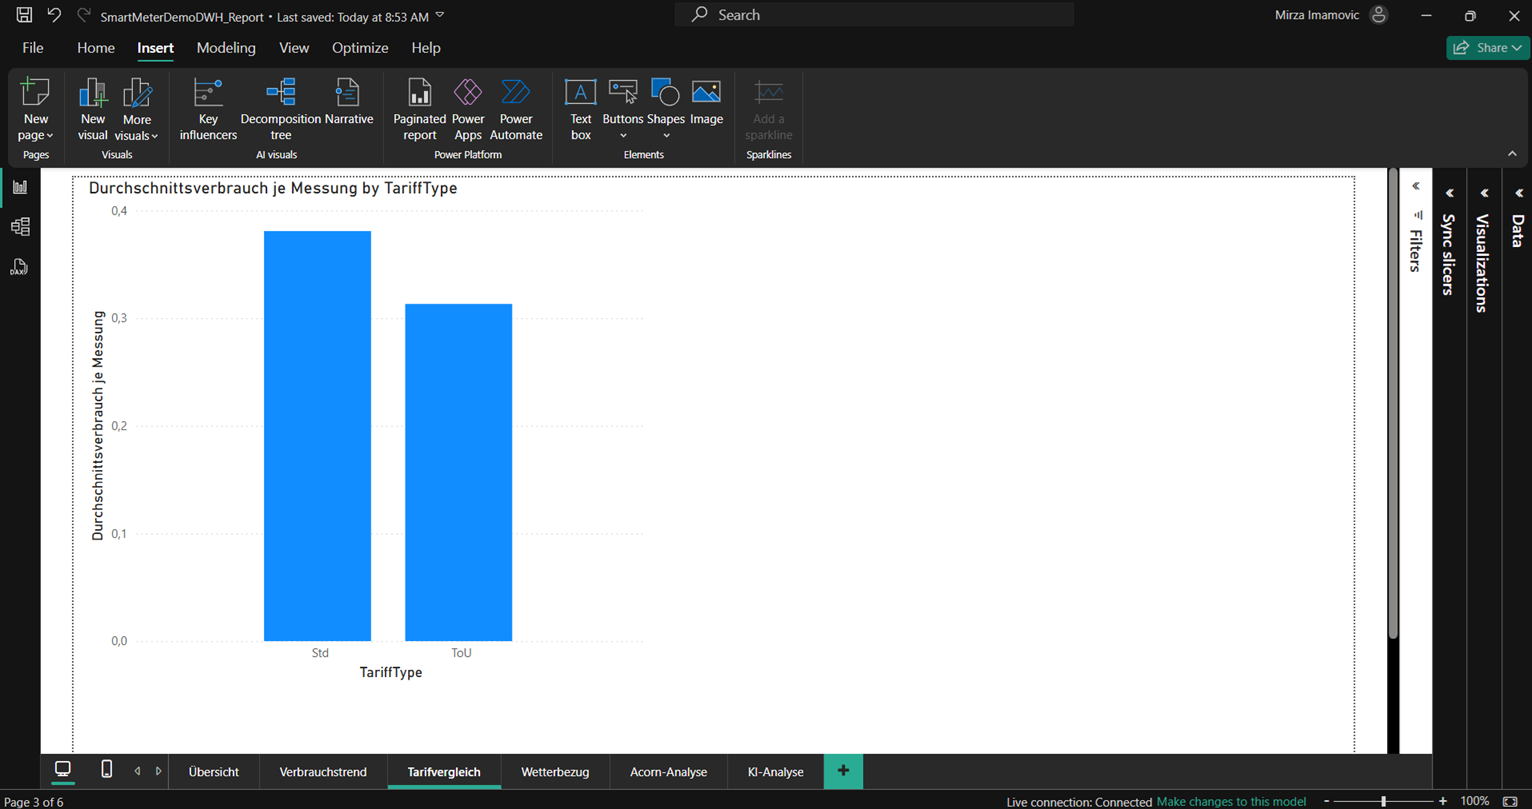

What the dashboard file says about the page in this screenshot:
{"tool":"powerbi","page":{"name":"Tarifvergleich","canvas":[1280,720],"ordinal":2},"visuals":[{"type":"clusteredColumnChart","fields":{"Category":["Dim_Tariff.TariffType"],"Y":["Fact_Consumption.Durchschnittsverbrauch je Messung"]},"box":[10,0,565.6,507.8],"z":0}]}

Visuals, with their boxes on the page's 1280x720 design canvas (x1, y1, x2, y2). These are canvas units, not pixel positions in the 1532x809 screenshot, which may show the page scaled, cropped or inside an application window:
clusteredColumnChart - Dim_Tariff.TariffType x Fact_Consumption.Durchschnittsverbrauch je Messung: box=[10, 0, 576, 508]
